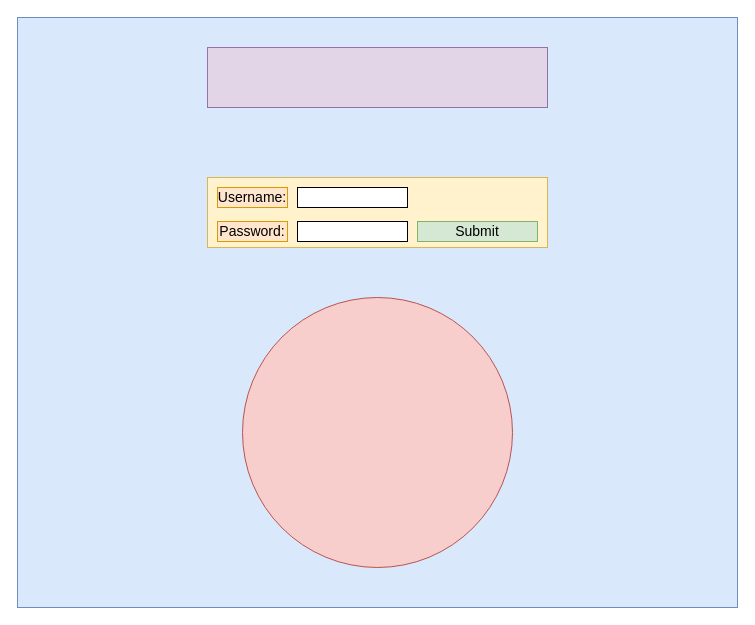
Some shapes in this 755 by 625 pixel diagram are drawn without their labels. Each missing label, with the centre of its shape:
"*Company Logo*" goes at [377,432].
"Text Review Interpretation Application" goes at [377,77].
